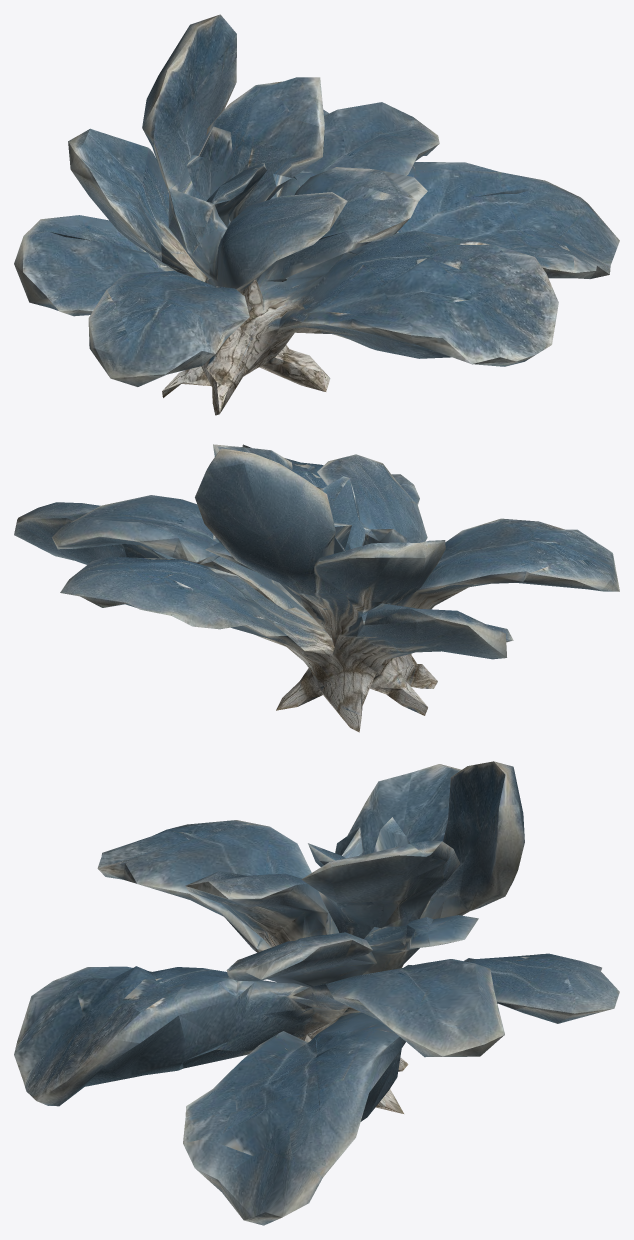
Rendered from fc_low_cushionplant.glb.
3 renders of one model, top to bottom at view 1: azimuth 30°, elevation 25°; view 2: azimuth 150°, elevation 25°; view 3: azimuth 270°, elevation 25°, orthographic. The views are drawn at different scales.
Parts seen in each view (by area): view 1: mesh; view 2: mesh; view 3: mesh.
Part boxes in pixels (x1,y1,x2,y2): mesh: (14,14,619,415); mesh: (14,444,619,732); mesh: (14,761,619,1225).
Bounding box in the file's own units: 1.91 × 0.9585 × 1.52.
1 material, 1 textured.
